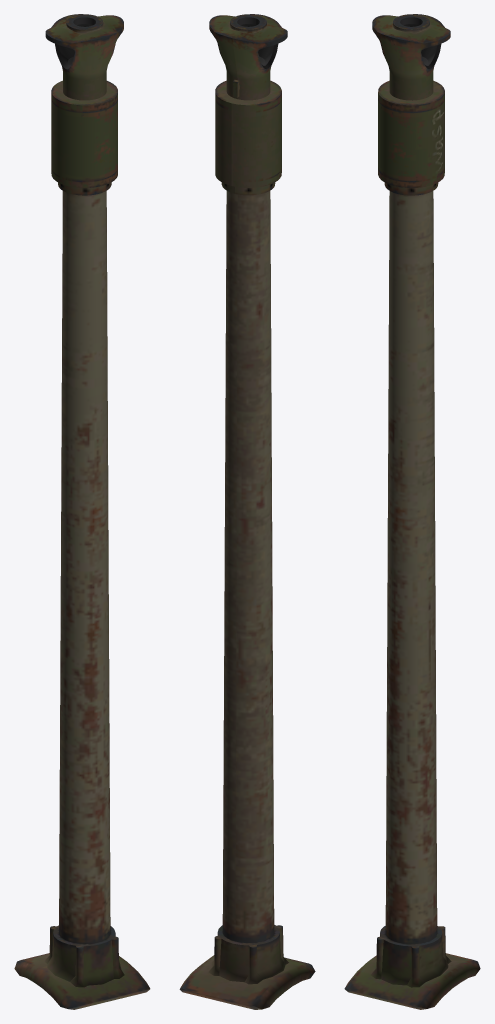
The model's file is Gun_03.glb.
3 renders of one model, left to right at view 1: azimuth 30°, elevation 25°; view 2: azimuth 150°, elevation 25°; view 3: azimuth 330°, elevation 25°, orthographic.
Visible parts, largest first — view 1: set_0_group_0; view 2: set_0_group_0; view 3: set_0_group_0.
Part boxes in pixels (<box>): set_0_group_0: <box>14,14,150,1009</box>; set_0_group_0: <box>179,14,315,1009</box>; set_0_group_0: <box>344,14,480,1009</box>.
Size of the model in its own units: 0.3274 by 3.57 by 0.4004.
Materials: 1 (1 with a texture image).
